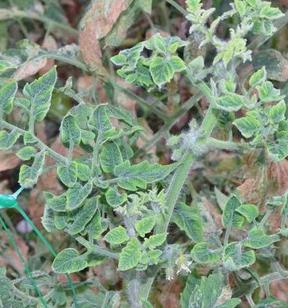Tomato leaf yellow virus: (217, 117, 273, 142), (113, 240, 145, 274), (206, 89, 251, 113), (152, 51, 174, 95), (121, 215, 161, 239)
